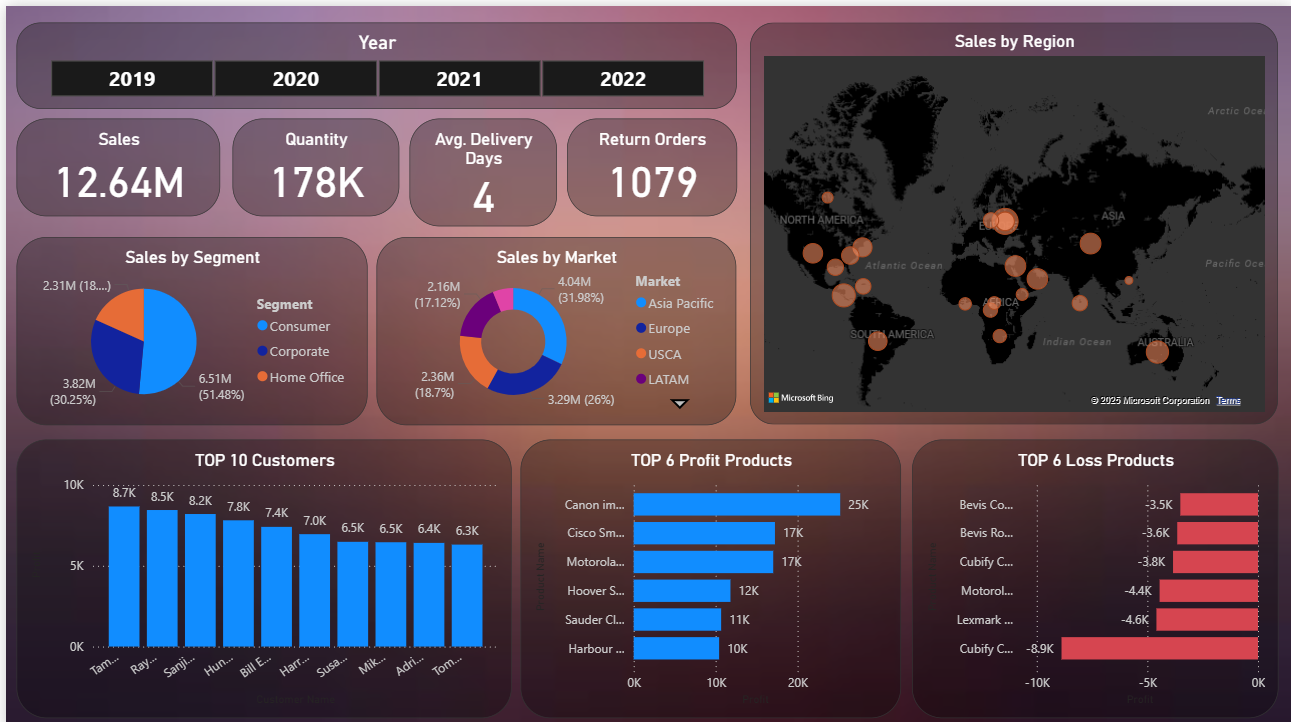

This screenshot's page, from the dashboard's own definition file:
{"tool":"powerbi","page":{"name":"P","canvas":[1280,720],"ordinal":0},"visuals":[{"type":"card","title":"Sales","fields":{"Values":["Sum(Orders.Sales)"]},"box":[9.9,112.7,202.8,97.2],"z":0},{"type":"card","title":"Quantity","fields":{"Values":["Sum(Orders.Quantity)"]},"box":[225.4,112.7,166.2,97.2],"z":1000},{"type":"card","title":"Avg. Delivery Days","fields":{"Values":["Sum(Orders.Delivery Days)"]},"box":[401.4,112.7,146.5,107],"z":2000},{"type":"slicer","title":"Year","fields":{"Values":["Orders.Year"]},"box":[9.9,16.9,716.9,85.9],"z":3000},{"type":"card","title":"Return Orders","fields":{"Values":["Min(Returns.Return Orders)"]},"box":[557.7,112.7,169,97.2],"z":4000},{"type":"map","fields":{"Category":["Orders.Region"],"Size":["Sum(Orders.Sales)"]},"box":[740.8,16.9,525.4,400],"z":5000},{"type":"barChart","title":"TOP 6 Profit  Products","fields":{"Category":["Orders.Product Name"],"Y":["Sum(Orders.Profit)"]},"box":[512.7,431,378.9,277.5],"z":6000},{"type":"barChart","title":"TOP 6 Loss  Products","fields":{"Category":["Orders.Product Name"],"Y":["Sum(Orders.Profit)"]},"box":[901.4,431,364.8,277.5],"z":7000},{"type":"pieChart","fields":{"Category":["Orders.Segment"],"Y":["Sum(Orders.Sales)"]},"box":[9.9,229.6,349.3,187.3],"z":8000},{"type":"donutChart","fields":{"Y":["Sum(Orders.Sales)"],"Category":["Orders.Market"]},"box":[369,229.6,357.7,187.3],"z":9000},{"type":"columnChart","title":"TOP 10 Customers","fields":{"Y":["Sum(Orders.Profit)"],"Category":["Orders.Customer Name"]},"box":[9.9,431,493,277.5],"z":10000}]}

Visuals, with their boxes in screenshot pixels (x1, y1, x2, y2), scaled from the page's 1280x720 canvas onto the 1291x722 screenshot:
"Sales" card: rect(10, 113, 215, 210)
"Quantity" card: rect(227, 113, 395, 210)
"Avg. Delivery Days" card: rect(405, 113, 553, 220)
"Year" slicer: rect(10, 17, 733, 103)
"Return Orders" card: rect(562, 113, 733, 210)
map - Orders.Region x Sum(Orders.Sales): rect(747, 17, 1277, 418)
"TOP 6 Profit  Products" barChart: rect(517, 432, 899, 710)
"TOP 6 Loss  Products" barChart: rect(909, 432, 1277, 710)
pieChart - Orders.Segment x Sum(Orders.Sales): rect(10, 230, 362, 418)
donutChart - Sum(Orders.Sales) x Orders.Market: rect(372, 230, 733, 418)
"TOP 10 Customers" columnChart: rect(10, 432, 507, 710)
